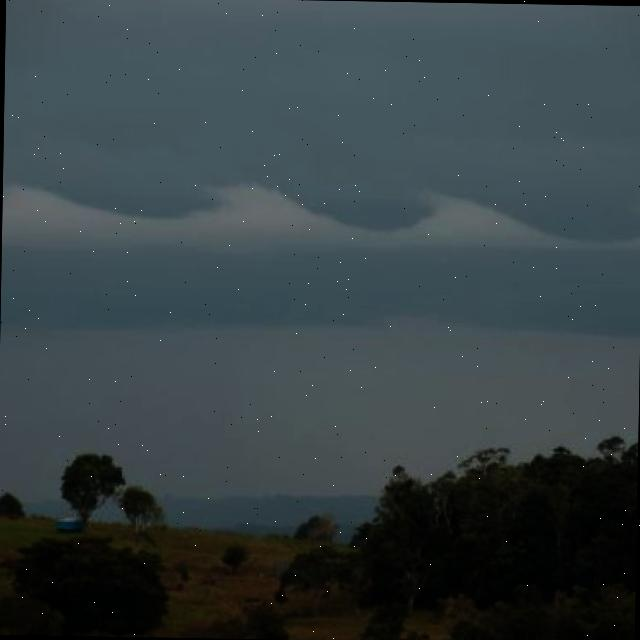Ns: (1, 3, 640, 346)
